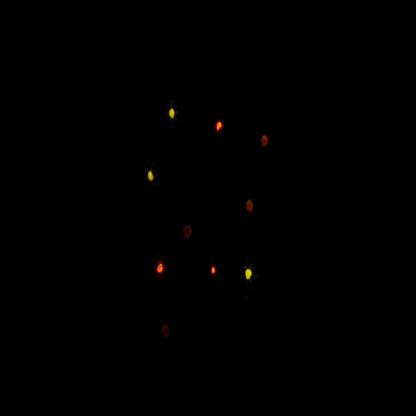PE: (144, 158, 164, 193), (163, 97, 183, 127), (239, 261, 258, 290)
PS: (154, 312, 177, 354), (178, 215, 199, 256), (240, 188, 259, 227), (259, 130, 275, 155)
PVC: (207, 107, 237, 148), (205, 257, 228, 289), (152, 253, 171, 288)
